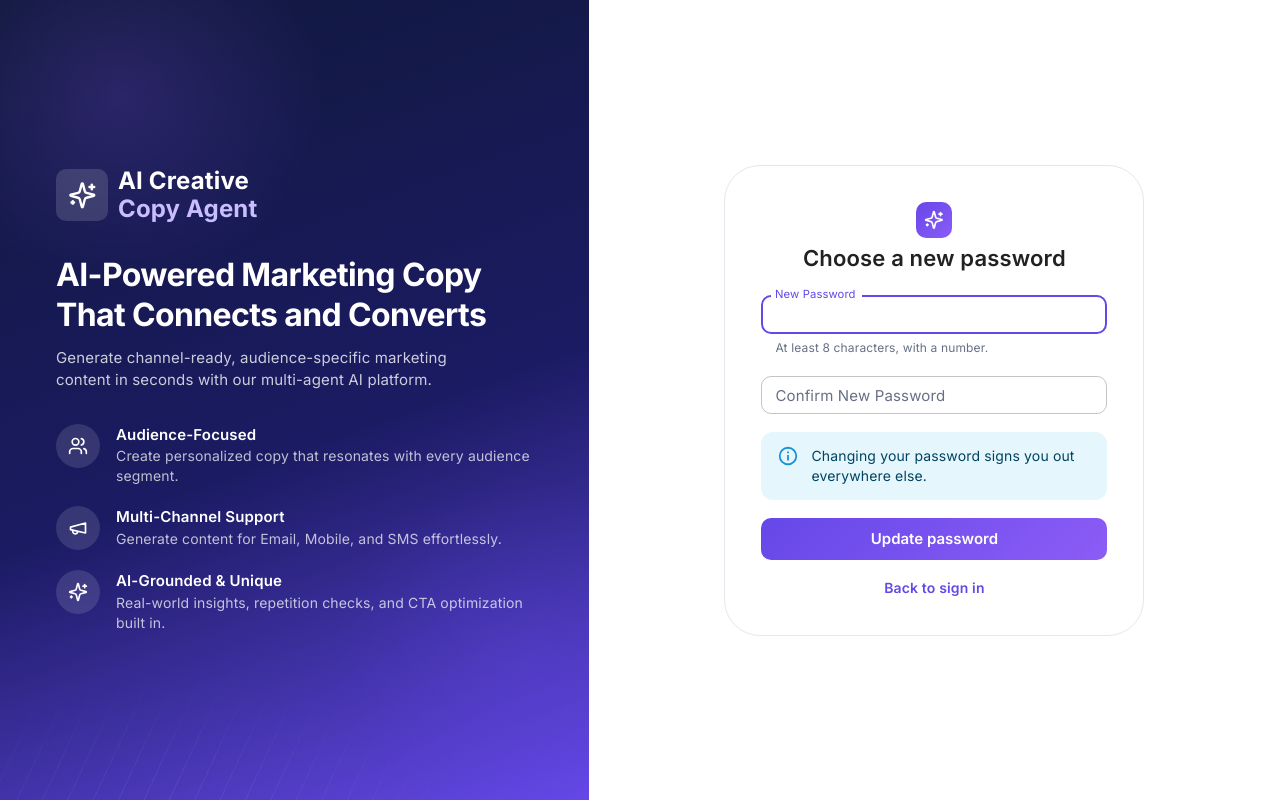
ResetPasswordPage › requires a strong, matching password
The width and height of the screenshot is (1280, 800).
Type "onlyletters" into the password field labelled "New Password" at (934, 314), box [761,295,1107,334]
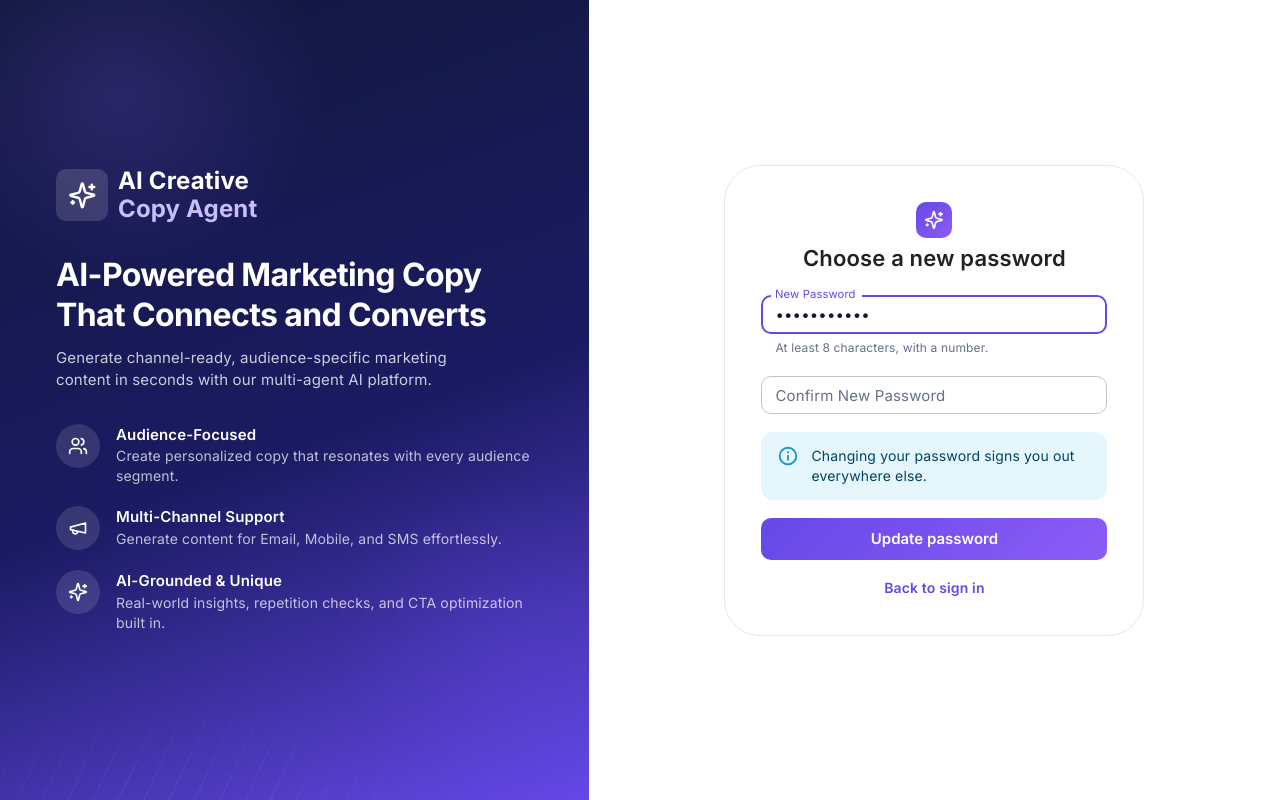
Type "different" into the password field labelled "Confirm New Password" at (934, 395), box [761,376,1107,414]
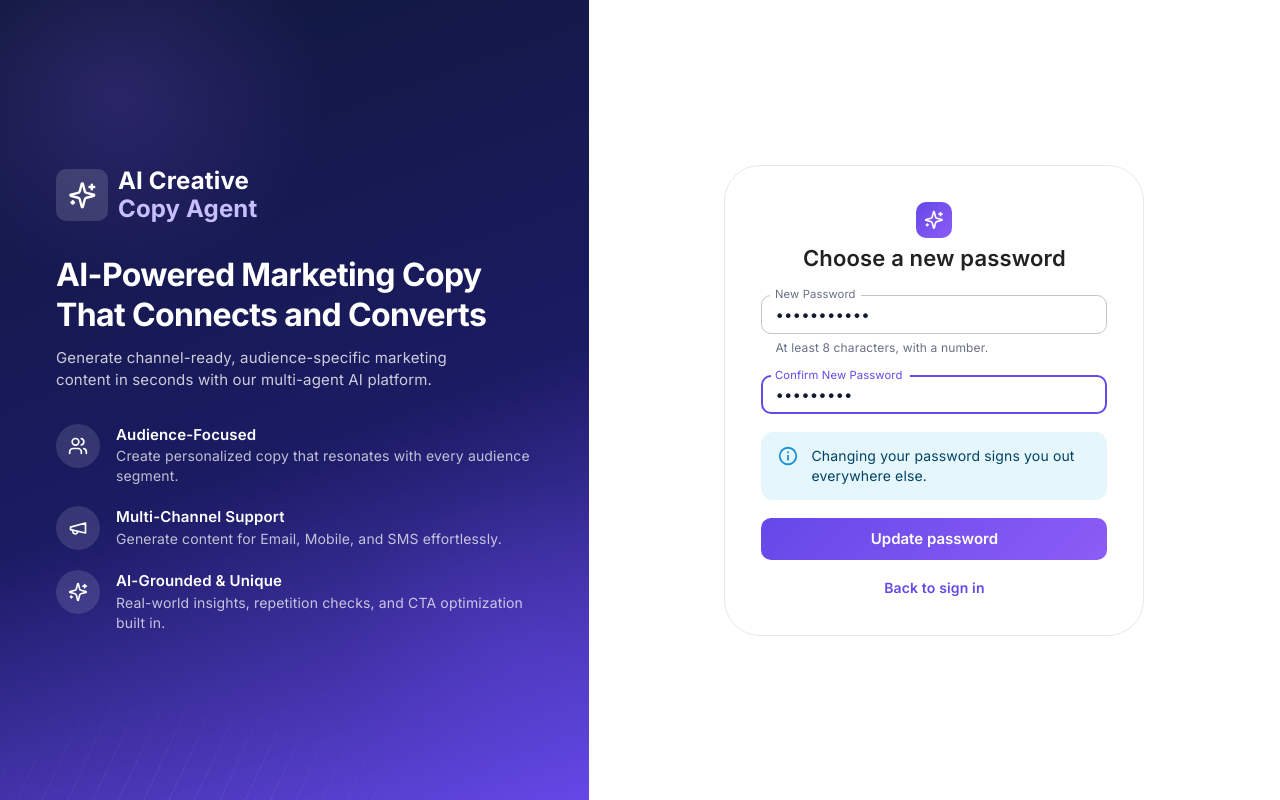
Click the button "Update password" at (934, 539), box [761,518,1107,560]
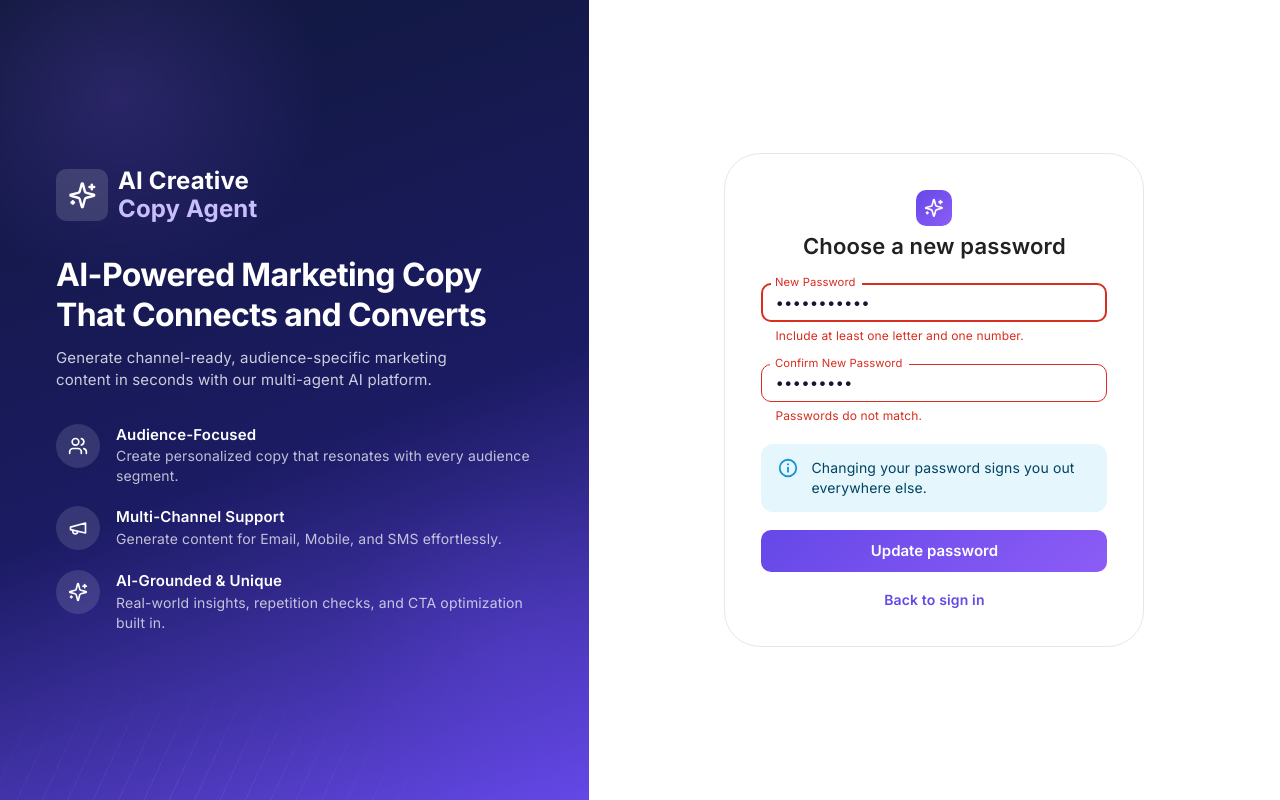
Result: the text "Include at least one letter and one number." is shown at [775,328,1024,343]
Result: the text "Passwords do not match." is shown at [775,408,922,423]
